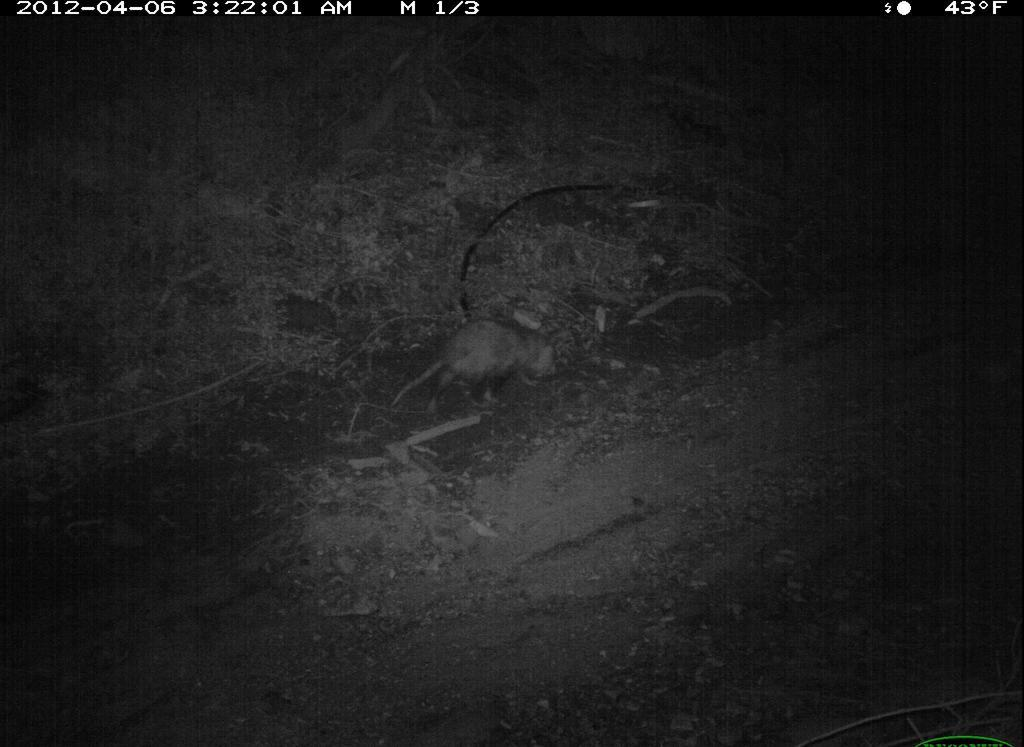opossum: (390, 319, 569, 436)
